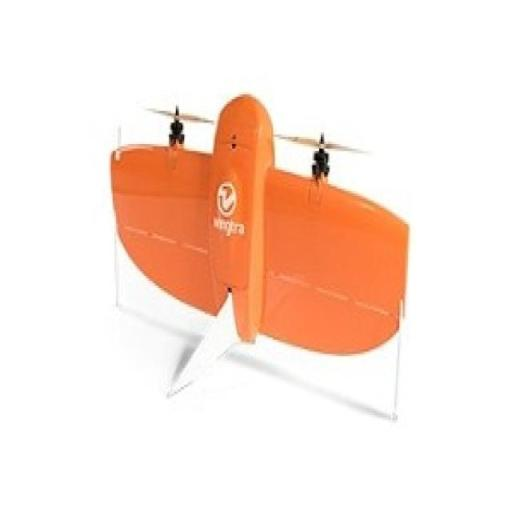uav: (100, 90, 422, 378)
